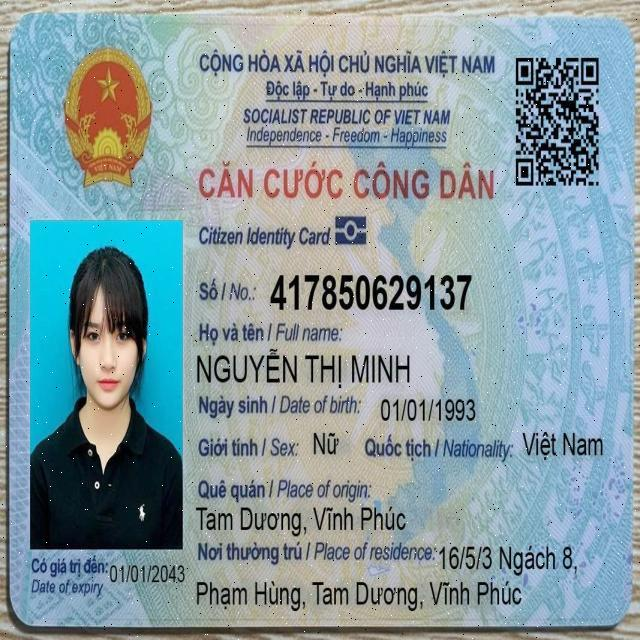current_place: (194, 576, 525, 615), (437, 541, 580, 579)
dob: (379, 395, 478, 426)
expire_date: (108, 560, 187, 587)
gender: (311, 427, 341, 459)
id: (267, 269, 475, 316)
name: (194, 346, 413, 391)
nationality: (521, 429, 605, 463)
origin_place: (192, 501, 408, 540)
qr: (512, 51, 604, 196)
